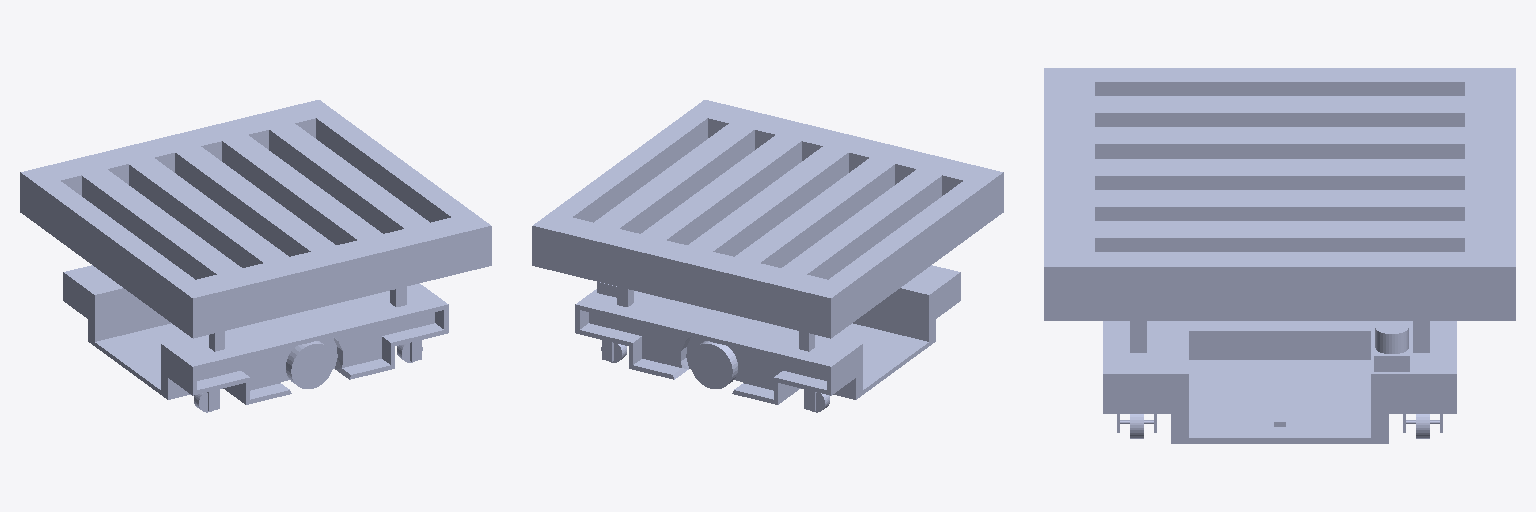
The robot description file, URDF, robot "regal_description":
<?xml version="1.0" ?>
<robot name="regal_description" xmlns:xacro="http://ros.org/wiki/xacro">
  <link
    name="base_link">
    <inertial>
      <origin
        xyz="-0.325 0 0.38519"
        rpy="0 0 0" />
      <mass
        value="342.94" />
      <inertia
        ixx="73.379"
        ixy="-2.0493E-14"
        ixz="4.064E-15"
        iyy="67.725"
        iyz="-1.5332E-14"
        izz="111.68" />
    </inertial>
    <visual>
      <origin
        xyz="0 0 0"
        rpy="0 0 0" />
      <geometry>
        <mesh
          filename="package://regal_description/meshes/base_link.STL" />
      </geometry>
      <material
        name="">
        <color
          rgba="0.79216 0.81961 0.93333 1" />
      </material>
    </visual>
    <collision>
      <origin
        xyz="0 0 0"
        rpy="0 0 0" />
      <geometry>
        <mesh
          filename="package://regal_description/meshes/base_link.STL" />
      </geometry>
    </collision>
  </link>
  <link
    name="left_wheel_link">
    <inertial>
      <origin
        xyz="-2.135E-13 -0.0040385 1.3424E-12"
        rpy="0 0 0" />
      <mass
        value="1.5315" />
      <inertia
        ixx="0.0041263"
        ixy="3.1499E-19"
        ixz="-3.1857E-33"
        iyy="0.0071054"
        iyz="-3.0304E-17"
        izz="0.0041263" />
    </inertial>
    <visual>
      <origin
        xyz="0 0 0"
        rpy="0 0 0" />
      <geometry>
        <mesh
          filename="package://regal_description/meshes/left_wheel_link.STL" />
      </geometry>
      <material
        name="">
        <color
          rgba="0.79216 0.81961 0.93333 1" />
      </material>
    </visual>
    <collision>
      <origin
        xyz="0 0 0"
        rpy="0 0 0" />
      <geometry>
        <mesh
          filename="package://regal_description/meshes/left_wheel_link.STL" />
      </geometry>
    </collision>
  </link>
  <joint
    name="left_wheel"
    type="continuous">
    <origin
      xyz="-0.325 0.4375 0.045"
      rpy="0 0 0" />
    <parent
      link="base_link" />
    <child
      link="left_wheel_link" />
    <axis
      xyz="0 1 0" />
    <hardwareInterface>hardware_interface/VelocityJointInterface</hardwareInterface>
  </joint>
  <link
    name="right_wheel_link">
    <inertial>
      <origin
        xyz="-2.1383E-13 0.0040385 5.4634E-13"
        rpy="0 0 0" />
      <mass
        value="1.5315" />
      <inertia
        ixx="0.0041263"
        ixy="3.1499E-19"
        ixz="-3.2985E-33"
        iyy="0.0071054"
        iyz="-3.1019E-17"
        izz="0.0041263" />
    </inertial>
    <visual>
      <origin
        xyz="0 0 0"
        rpy="0 0 0" />
      <geometry>
        <mesh
          filename="package://regal_description/meshes/right_wheel_link.STL" />
      </geometry>
      <material
        name="">
        <color
          rgba="0.79216 0.81961 0.93333 1" />
      </material>
    </visual>
    <collision>
      <origin
        xyz="0 0 0"
        rpy="0 0 0" />
      <geometry>
        <mesh
          filename="package://regal_description/meshes/right_wheel_link.STL" />
      </geometry>
    </collision>
  </link>
  <joint
    name="right_wheel"
    type="continuous">
    <origin
      xyz="-0.325 -0.4375 0.045"
      rpy="0 0 0" />
    <parent
      link="base_link" />
    <child
      link="right_wheel_link" />
    <axis
      xyz="0 1 0" />
    <hardwareInterface>hardware_interface/VelocityJointInterface</hardwareInterface>
  </joint>
  <link
    name="caster_right_front_link">
    <inertial>
      <origin
        xyz="0 -5.8176E-14 5.4734E-14"
        rpy="0 0 0" />
      <mass
        value="0.30383" />
      <inertia
        ixx="0.00022796"
        ixy="2.0392E-20"
        ixz="-7.411E-35"
        iyy="0.0003749"
        iyz="-5.3402E-19"
        izz="0.00022796" />
    </inertial>
    <visual>
      <origin
        xyz="0 0 0"
        rpy="0 0 0" />
      <geometry>
        <mesh
          filename="package://regal_description/meshes/caster_right_front_link.STL" />
      </geometry>
      <material
        name="">
        <color
          rgba="0.79216 0.81961 0.93333 1" />
      </material>
    </visual>
    <collision>
      <origin
        xyz="0 0 0"
        rpy="0 0 0" />
      <geometry>
        <mesh
          filename="package://regal_description/meshes/caster_right_front_link.STL" />
      </geometry>
    </collision>
  </link>
  <joint
    name="caster_RF_joint"
    type="fixed">
    <origin
      xyz="0.15 -0.425 -0.005"
      rpy="0 0 0" />
    <parent
      link="base_link" />
    <child
      link="caster_right_front_link" />
    <axis
      xyz="0 0 0" />
  </joint>
  <link
    name="caster_left_front_link">
    <inertial>
      <origin
        xyz="-3.46944695195361E-18 -5.77315972805081E-14 1.38777878078145E-13"
        rpy="0 0 0" />
      <mass
        value="0.303833557164977" />
      <inertia
        ixx="0.000227963580273935"
        ixy="1.35948010592685E-20"
        ixz="-4.9821323346137E-35"
        iyy="0.000374904878637209"
        iyz="-5.38502324852465E-19"
        izz="0.000227963580273935" />
    </inertial>
    <visual>
      <origin
        xyz="0 0 0"
        rpy="0 0 0" />
      <geometry>
        <mesh
          filename="package://regal_description/meshes/caster_left_front_link.STL" />
      </geometry>
      <material
        name="">
        <color
          rgba="0.792156862745098 0.819607843137255 0.933333333333333 1" />
      </material>
    </visual>
    <collision>
      <origin
        xyz="0 0 0"
        rpy="0 0 0" />
      <geometry>
        <mesh
          filename="package://regal_description/meshes/caster_left_front_link.STL" />
      </geometry>
    </collision>
  </link>
  <joint
    name="caster_LF_joint"
    type="fixed">
    <origin
      xyz="0.15 0.425 -0.005"
      rpy="0 0 0" />
    <parent
      link="base_link" />
    <child
      link="caster_left_front_link" />
    <axis
      xyz="0 0 0" />
  </joint>
  <link
    name="caster_right_back_link">
    <inertial>
      <origin
        xyz="-2.22044604925031E-16 -3.63042929052426E-14 3.40838468559923E-14"
        rpy="0 0 0" />
      <mass
        value="0.31101767270539" />
      <inertia
        ixx="0.000237798928922663"
        ixy="2.1491264721714E-20"
        ixz="-1.22173467304178E-34"
        iyy="0.000392659811790555"
        iyz="-5.57533689142398E-19"
        izz="0.000237798928922663" />
    </inertial>
    <visual>
      <origin
        xyz="0 0 0"
        rpy="0 0 0" />
      <geometry>
        <mesh
          filename="package://regal_description/meshes/caster_right_back_link.STL" />
      </geometry>
      <material
        name="">
        <color
          rgba="0.792156862745098 0.819607843137255 0.933333333333333 1" />
      </material>
    </visual>
    <collision>
      <origin
        xyz="0 0 0"
        rpy="0 0 0" />
      <geometry>
        <mesh
          filename="package://regal_description/meshes/caster_right_back_link.STL" />
      </geometry>
    </collision>
  </link>
  <joint
    name="caster_RB_joint"
    type="fixed">
    <origin
      xyz="-0.8 -0.425 -0.005"
      rpy="0 0 0" />
    <parent
      link="base_link" />
    <child
      link="caster_right_back_link" />
    <axis
      xyz="0 0 0" />
  </joint>
  <link
    name="caster_left_back_link">
    <inertial>
      <origin
        xyz="-1.11022302462516E-16 0 0"
        rpy="0 0 0" />
      <mass
        value="0.31101767270539" />
      <inertia
        ixx="0.000237798928922663"
        ixy="6.13173787621736E-37"
        ixz="1.49975978269531E-40"
        iyy="0.000392659811790555"
        iyz="-5.57533689142399E-19"
        izz="0.000237798928922663" />
    </inertial>
    <visual>
      <origin
        xyz="0 0 0"
        rpy="0 0 0" />
      <geometry>
        <mesh
          filename="package://regal_description/meshes/caster_left_back_link.STL" />
      </geometry>
      <material
        name="">
        <color
          rgba="0.792156862745098 0.819607843137255 0.933333333333333 1" />
      </material>
    </visual>
    <collision>
      <origin
        xyz="0 0 0"
        rpy="0 0 0" />
      <geometry>
        <mesh
          filename="package://regal_description/meshes/caster_left_back_link.STL" />
      </geometry>
    </collision>
  </link>
  <joint
    name="caster_LB_joint"
    type="fixed">
    <origin
      xyz="-0.8 0.425 -0.005"
      rpy="0 0 0" />
    <parent
      link="base_link" />
    <child
      link="caster_left_back_link" />
    <axis
      xyz="0 0 0" />
  </joint>
  <link
    name="laser_link">
    <inertial>
      <origin
        xyz="5.1745586981955E-13 -2.35367281220533E-14 -0.0325717065551231"
        rpy="0 0 0" />
      <mass
        value="1.1847897786593" />
      <inertia
        ixx="0.00226818883577294"
        ixy="-8.83645608314776E-19"
        ixz="4.67724552404392E-19"
        iyy="0.00251049821077294"
        iyz="-2.52289793264342E-20"
        izz="0.00213581326499079" />
    </inertial>
    <visual>
      <origin
        xyz="0 0 0"
        rpy="0 0 0" />
      <geometry>
        <mesh
          filename="package://regal_description/meshes/laser_link.STL" />
      </geometry>
      <material
        name="">
        <color
          rgba="0.792156862745098 0.819607843137255 0.933333333333333 1" />
      </material>
    </visual>
    <collision>
      <origin
        xyz="0 0 0"
        rpy="0 0 0" />
      <geometry>
        <mesh
          filename="package://regal_description/meshes/laser_link.STL" />
      </geometry>
    </collision>
  </link>
  <joint
    name="laser_joint"
    type="fixed">
    <origin
      xyz="0.1925 0.333 0.29325"
      rpy="0 0 0" />
    <parent
      link="base_link" />
    <child
      link="laser_link" />
    <axis
      xyz="0 0 0" />
  </joint>
  <link
    name="imu">
    <inertial>
      <origin
        xyz="4.04777773799214E-12 -4.78506123613442E-14 -0.00785000000000013"
        rpy="0 0 0" />
      <mass
        value="0.0184161000000004" />
      <inertia
        ixx="2.15236634075004E-06"
        ixy="3.51505661036482E-20"
        ixz="-5.8540481580554E-24"
        iyy="2.20492895950012E-06"
        iyz="2.99990835485906E-23"
        izz="3.60073121875013E-06" />
    </inertial>
    <visual>
      <origin
        xyz="0 0 0"
        rpy="0 0 0" />
      <geometry>
        <mesh
          filename="package://regal_description/meshes/imu_link.STL" />
      </geometry>
      <material
        name="">
        <color
          rgba="0.792156862745098 0.819607843137255 0.933333333333333 1" />
      </material>
    </visual>
    <collision>
      <origin
        xyz="0 0 0"
        rpy="0 0 0" />
      <geometry>
        <mesh
          filename="package://regal_description/meshes/imu_link.STL" />
      </geometry>
    </collision>
  </link>
  <joint
    name="imu_joint"
    type="fixed">
    <origin
      xyz="0.17725 0 0.0157"
      rpy="0 0 0" />
    <parent
      link="base_link" />
    <child
      link="imu" />
    <axis
      xyz="0 0 0" />
  </joint>
  <gazebo reference="link_chassis">
    <material>Gazebo/Orange</material>
  </gazebo>
  <gazebo reference="link_left_wheel">
    <material>Gazebo/Blue</material>
  </gazebo>
  <gazebo reference="link_right_wheel">
    <material>Gazebo/Blue</material>
  </gazebo>
  <gazebo reference="camera_front">
    <material>Gazebo/Green</material>
  </gazebo>

 <gazebo>
    <plugin filename="libgazebo_ros_diff_drive.so" name="differential_drive_controller">
      <alwaysOn>true</alwaysOn>
      <updateRate>20</updateRate>
      <leftJoint>left_wheel</leftJoint>
      <rightJoint>right_wheel</rightJoint>
      <wheelSeparation>0.8786</wheelSeparation>
      <wheelDiameter>0.2</wheelDiameter>
      <torque>100</torque>
      <commandTopic>cmd_vel</commandTopic>
      <odometryTopic>odom</odometryTopic>
      <odometryFrame>odom</odometryFrame>
      <rosDebugLevel>na</rosDebugLevel>
      <publishWheelTF>false</publishWheelTF>
      <publishOdomTF>true</publishOdomTF>
      <publishWheelJointState>false</publishWheelJointState>
      <wheelAcceleration>0</wheelAcceleration>
      <wheelTorque>100</wheelTorque>
      <odometrySource>1</odometrySource>
      <publishTf>1</publishTf>
          <!--FIXED-->
      <robotBaseFrame>base_link</robotBaseFrame>
      <legacyMode>false</legacyMode>
    </plugin>
  </gazebo>


    <!-- IMU -->
  <gazebo>
    <plugin name="imu_controller" filename="libhector_gazebo_ros_imu.so">
      <updateRate>50.0</updateRate>
      <bodyName>imu_link</bodyName>
      <frameId>imu_link</frameId>
      <topicName>/imu/data_raw</topicName>
      <accelDrift>0.005 0.005 0.005</accelDrift>
      <accelGaussianNoise>0.005 0.005 0.005</accelGaussianNoise>
      <rateDrift>0.005 0.005 0.005 </rateDrift>
      <rateGaussianNoise>0.005 0.005 0.005 </rateGaussianNoise>
      <headingDrift>0.005</headingDrift>
      <headingGaussianNoise>0.005</headingGaussianNoise>
    </plugin>
  </gazebo>

  <gazebo reference="laser_link">
    <sensor type="ray" name="head_hokuyo_sensor">
      <pose>0 0 0 0 0 0</pose>
      <visualize>true</visualize>
      <update_rate>20</update_rate>
      <ray>
        <scan>
          <horizontal>
            <samples>720</samples>
            <resolution>1</resolution>
            <min_angle>-1.570796</min_angle>
            <max_angle>1.570796</max_angle>
          </horizontal>
        </scan>
        <range>
          <min>0.10</min>
          <max>10.0</max>
          <resolution>0.01</resolution>
        </range>
        <noise>
          <type>gaussian</type>
          <mean>0.0</mean>
          <stddev>0.01</stddev>
        </noise>
      </ray>
      <plugin name="gazebo_ros_head_hokuyo_controller" filename="libgazebo_ros_laser.so">
        <topicName>/scan</topicName>
        <frameName>laser_link</frameName>
      </plugin>
    </sensor>
  </gazebo>


</robot>

--- What the picture shows (computed from the rendered views, not written in the file) ---
3 views of the same robot in one strip: view 1: azimuth 30°, elevation 25°; view 2: azimuth 150°, elevation 25°; view 3: azimuth 270°, elevation 25° (orthographic).
Robot: regal_description — 9 links, 8 joints (2 continuous, 6 fixed); root link base_link; default pose: all joints at 0.
Visible links, largest first — view 1: base_link, right_wheel_link; view 2: base_link, left_wheel_link; view 3: base_link, laser_link.
Boxes of the visible links, bbox=[...] form: base_link: bbox=[20, 100, 491, 410]; right_wheel_link: bbox=[286, 341, 333, 388]; base_link: bbox=[532, 100, 1003, 410]; left_wheel_link: bbox=[690, 341, 737, 388]; base_link: bbox=[1044, 68, 1515, 443]; laser_link: bbox=[1374, 321, 1409, 371].
Bounding box of the posed robot: 1.4 × 1.4 × 0.665 m (x, y, z).
Meshes: 9 distinct files referenced, 9 mesh visuals loaded (9 binary STL).
